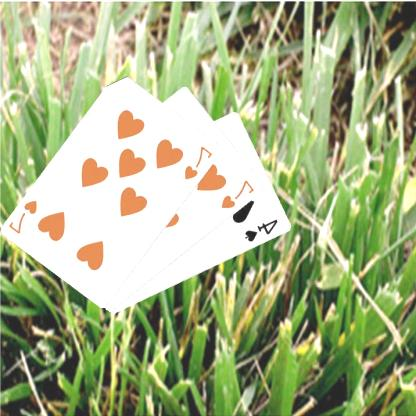4S: (244, 217, 281, 243)
7H: (220, 178, 258, 210), (184, 143, 216, 181), (8, 198, 40, 235)
